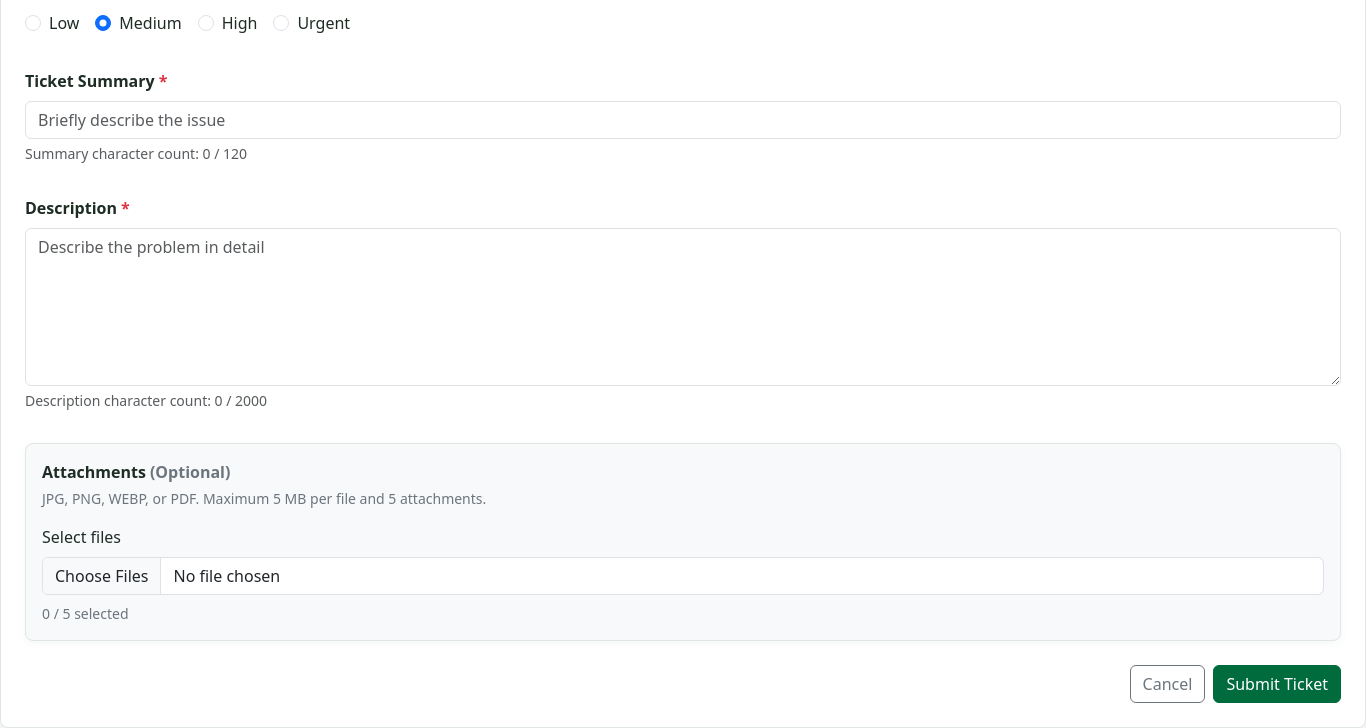
Test case: Feature-D: Create Ticket UI › shows inline validation for an invalid submission
(page scrolled)
Click the button "Submit Ticket" at (1277, 684), box [1213,665,1341,703]
(page scrolled)
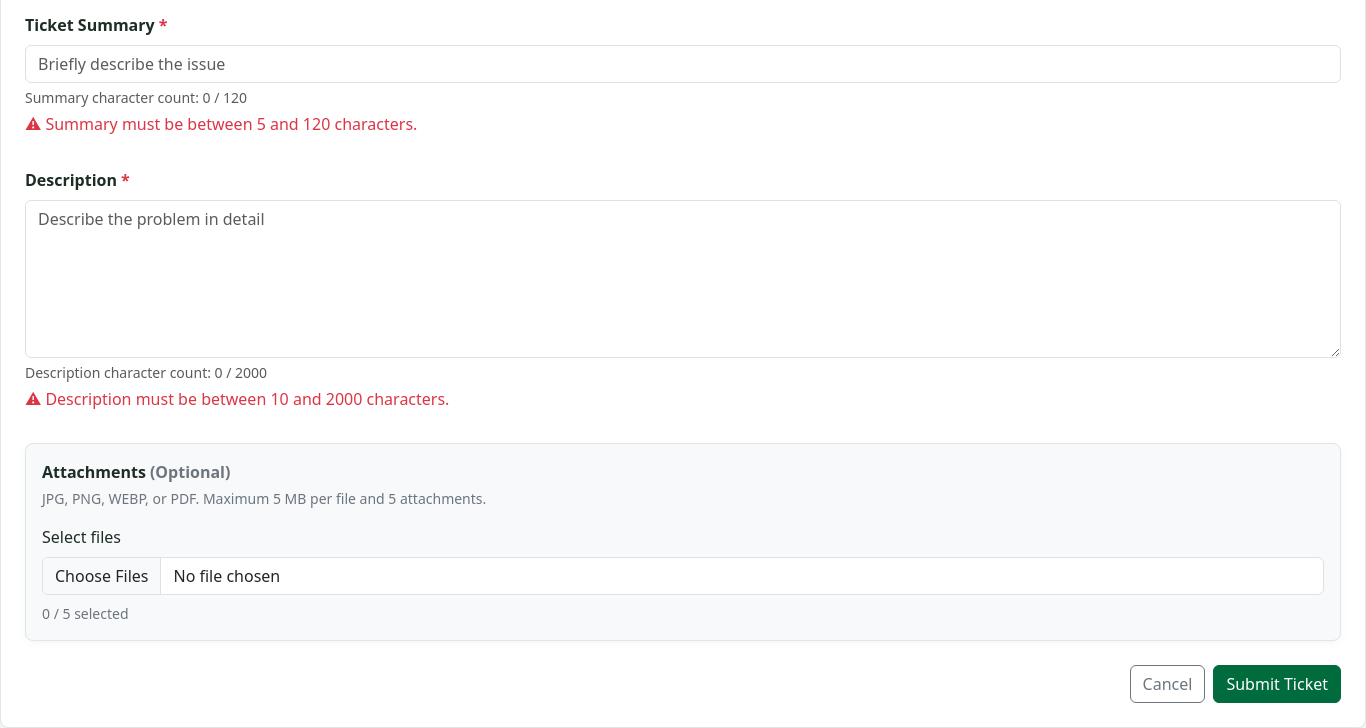
Expected: the text "Summary must be between 5 and 120 characters." is shown, [45,113,417,135]
Expected: the text "Description must be between 10 and 2000 characters." is shown, [45,388,449,410]
